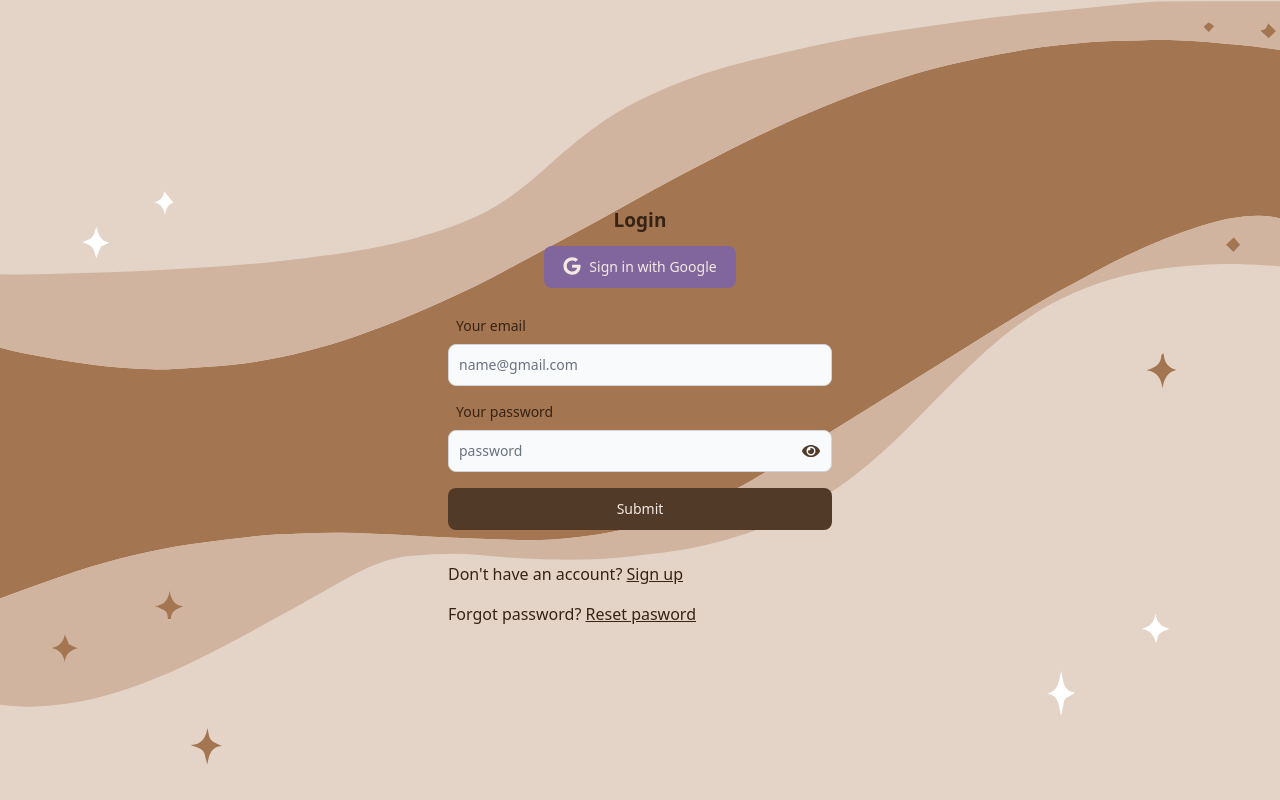
Test: LoginPage, Google and email sign-in › allows user to type email/password and submit
The image size is (1280, 800).
Type "test@example.com" into the field labelled "Your email". click: (640,365)
box: [448,344,832,386]
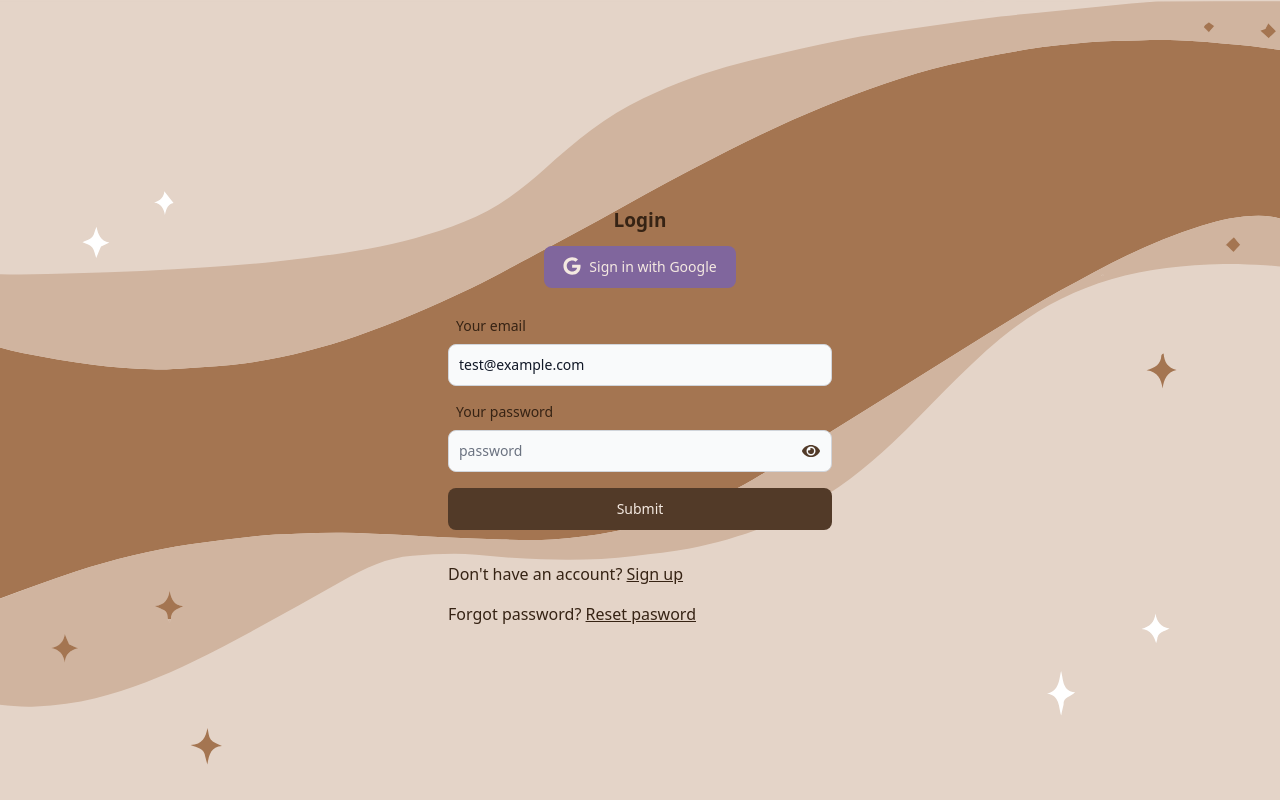
Type "password123" into the password field labelled "Your password". click: (640,451)
box: [448,430,832,472]
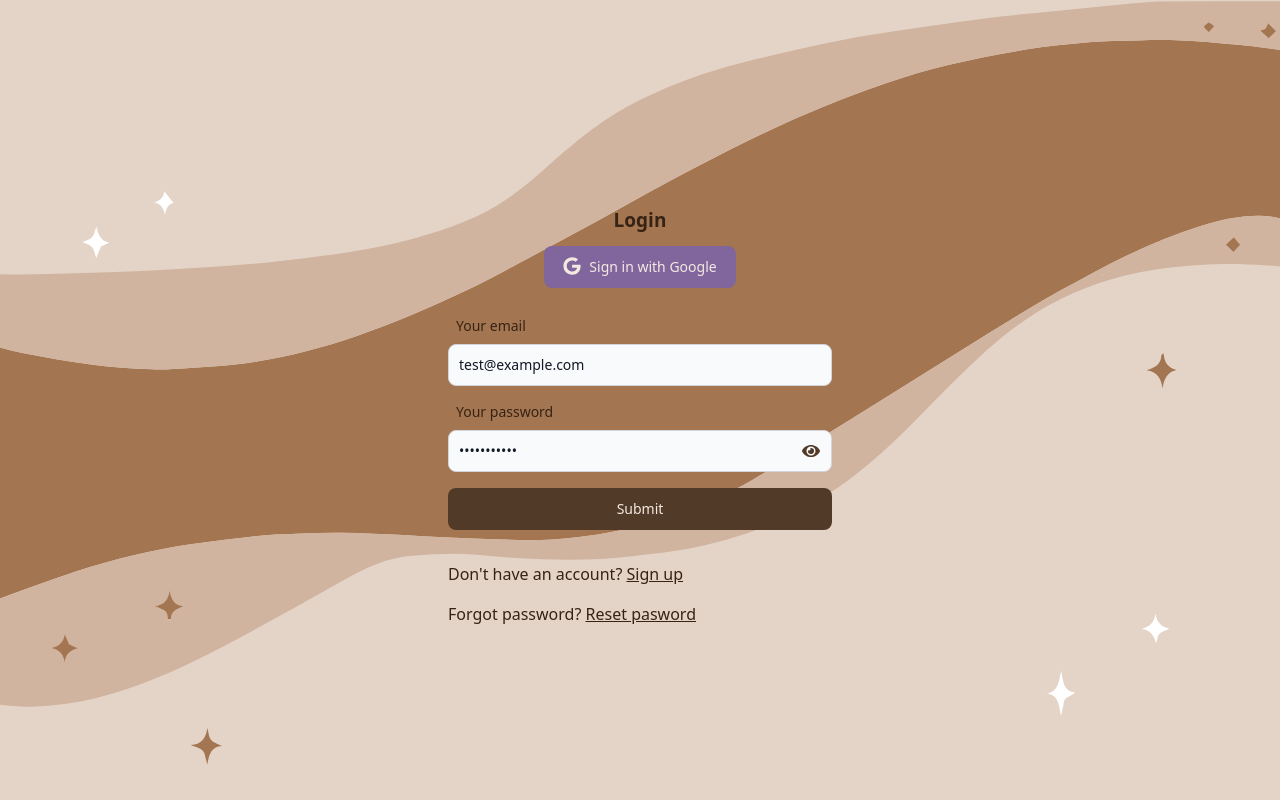
Click the button "Submit". click: (640,509)
box: [448,488,832,530]
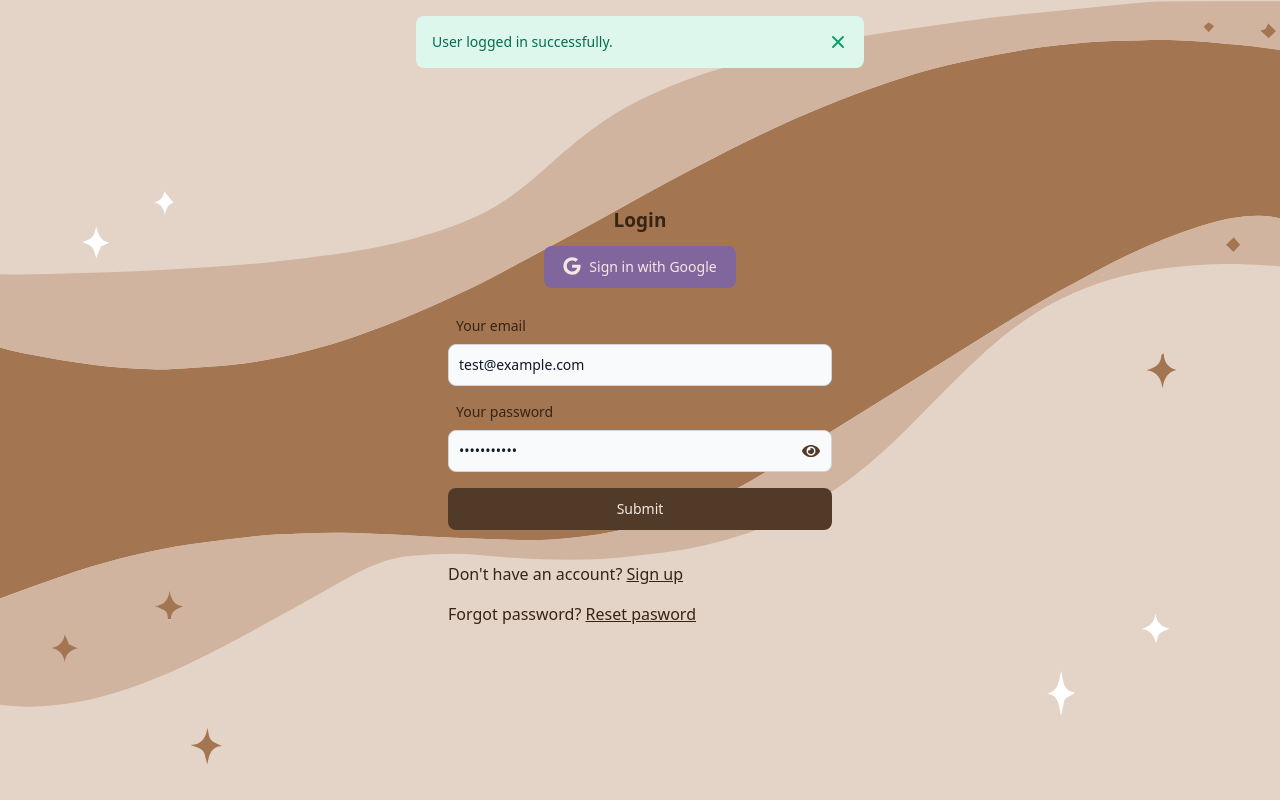
Expected: the text "User logged in successfully." is shown, [432,32,613,52]
